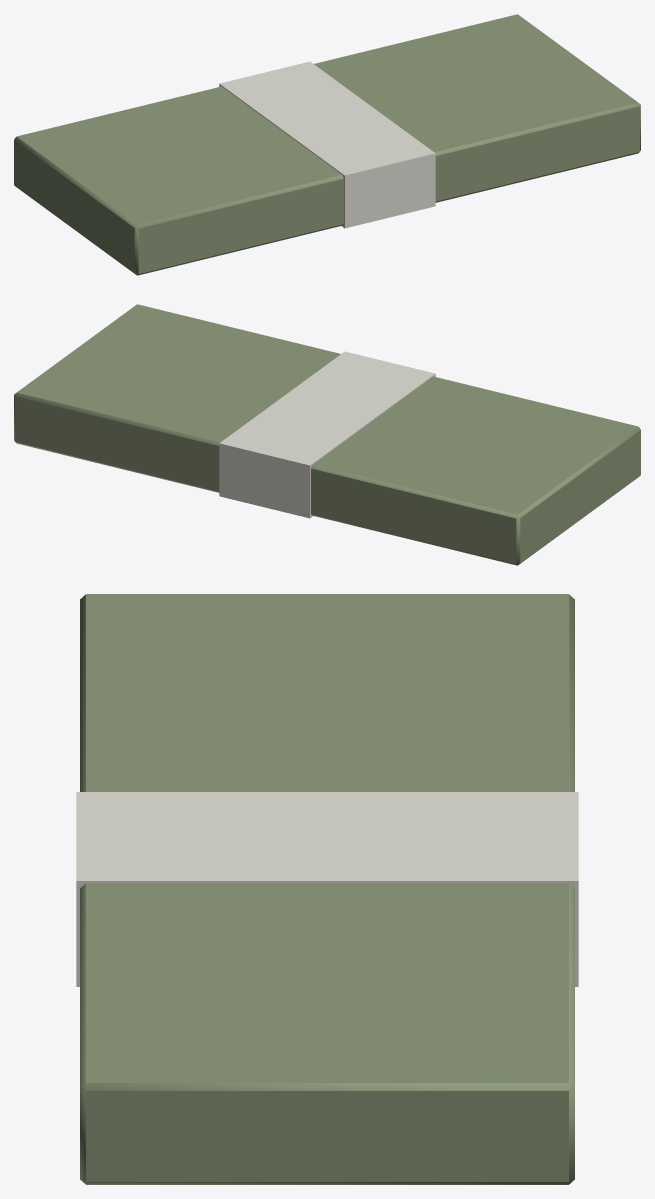
The model's file is char_hand_cash.glb.
The picture shows the model from 3 angles, top to bottom: view 1: azimuth 30°, elevation 25°; view 2: azimuth 150°, elevation 25°; view 3: azimuth 270°, elevation 25°; orthographic projection. The views are drawn at different scales.
Visible parts, largest first — view 1: Visual; view 2: Visual; view 3: Visual.
Part boxes in pixels (box(x1,y1,x2,y2)): Visual: box(14, 14, 640, 275); Visual: box(14, 304, 640, 565); Visual: box(76, 594, 578, 1184).
Size of the model in its own units: 0.156 by 0.0156 by 0.067.
